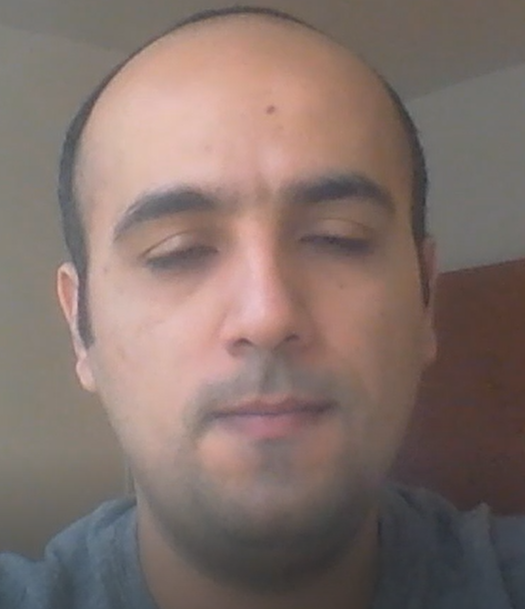Half Asleep: (114, 168, 401, 305)
